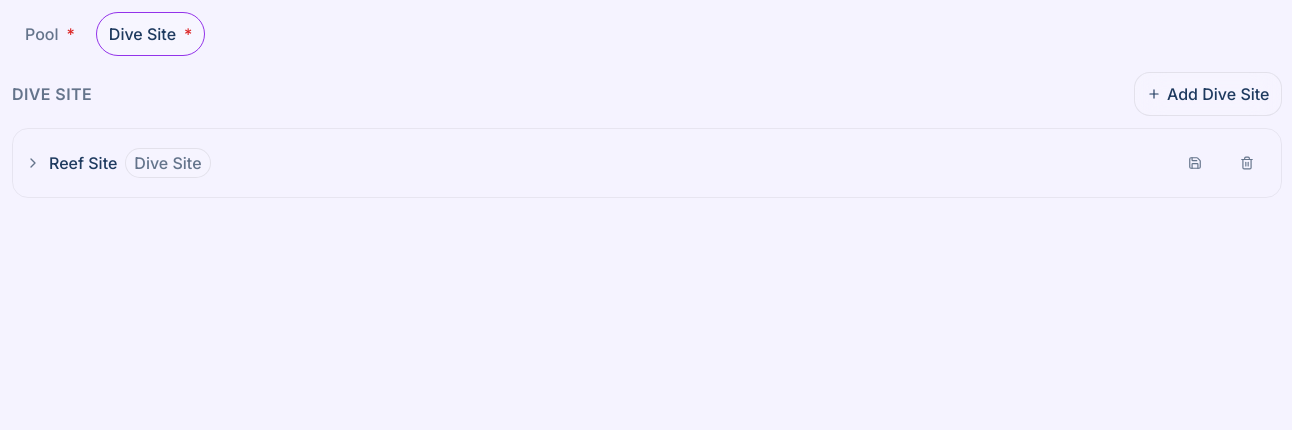
Scenario: VenueCapabilitiesSection — Dive Site sub-tab is selectable › existing single dive_site row lands on Dive Site tab on first render (no click required)
The width and height of the screenshot is (1292, 430).
Check: the text "Reef Site" is shown, box [49,151,117,175]
Click the tab "Pool *": (50, 34) [12,12,88,56]
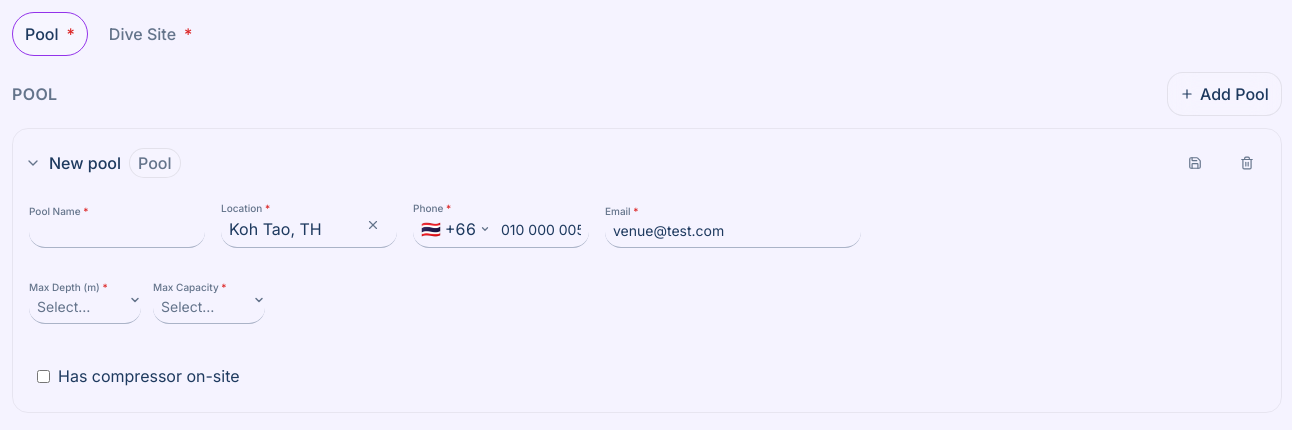
Check: the button "Reef Site" is gone
